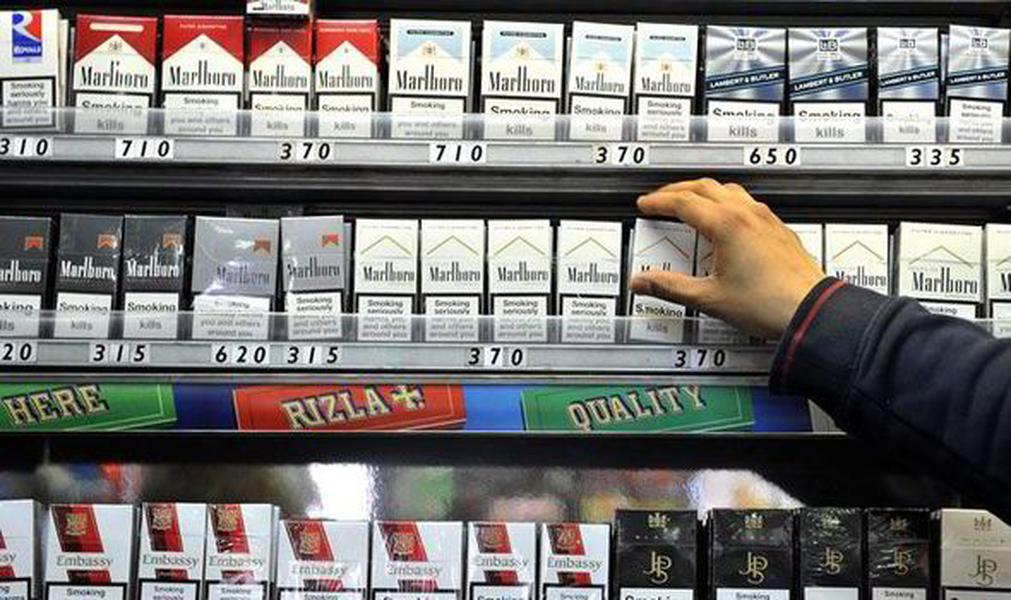marlboro_gold: (901, 225, 980, 336), (559, 222, 622, 344), (357, 220, 415, 344), (424, 222, 483, 343), (492, 222, 548, 343), (636, 222, 688, 346), (827, 225, 888, 311)
marlboro_red: (164, 18, 243, 139), (73, 16, 152, 136), (248, 22, 311, 137), (318, 22, 376, 137)
